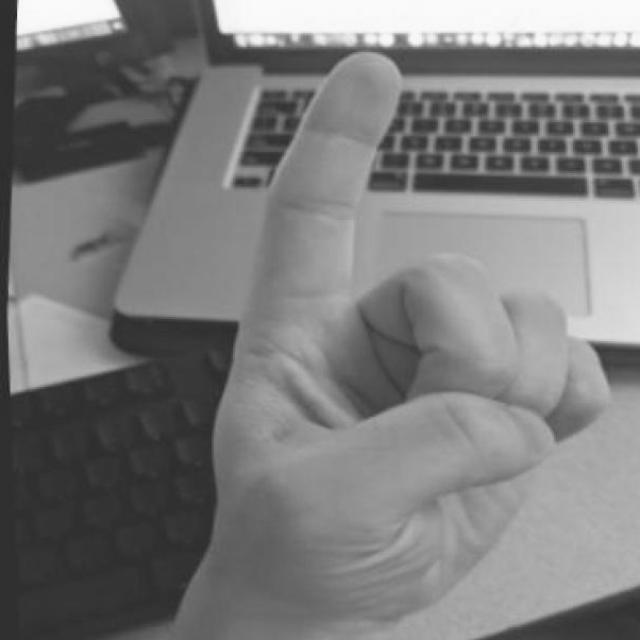D: (179, 42, 623, 640)
